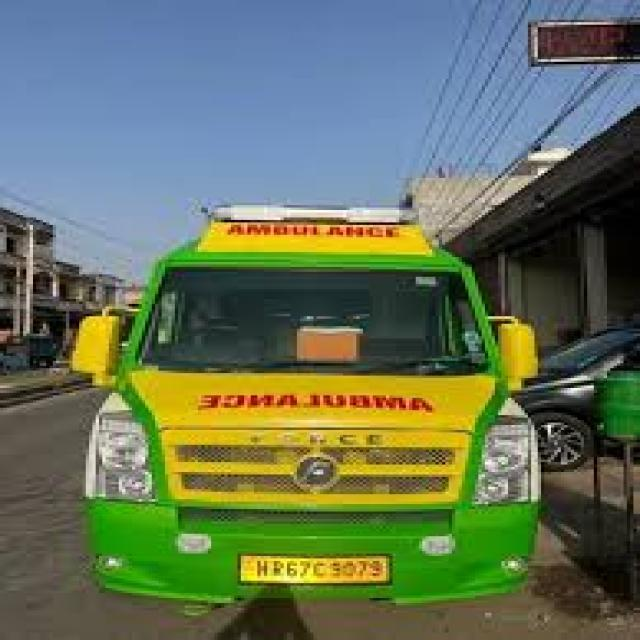Ambulance: (53, 185, 567, 640)
